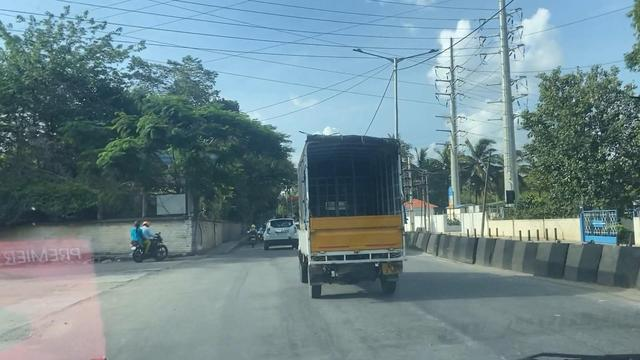HMV: (294, 133, 403, 294)
LMV: (264, 220, 297, 249)
RoadDamages: (46, 261, 169, 337)
UnsurfacedRoad: (415, 303, 492, 358)
